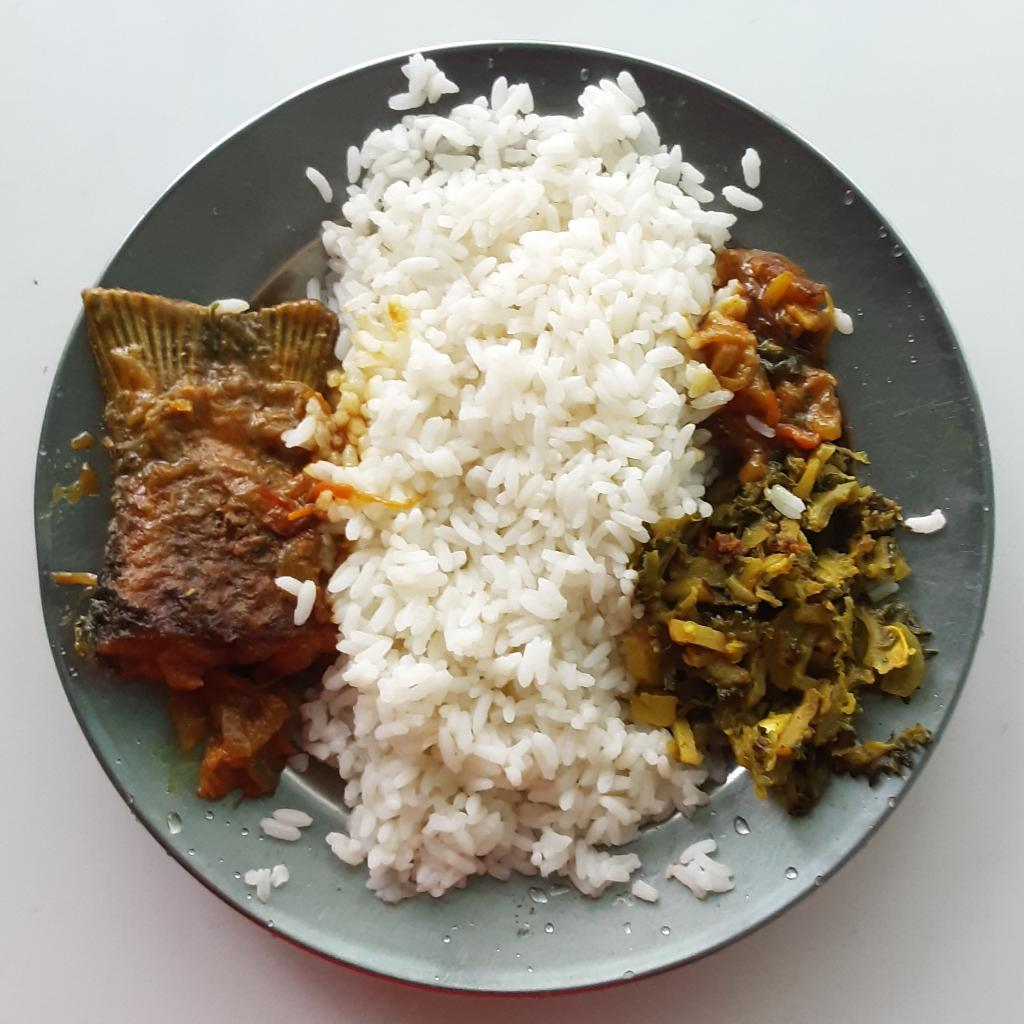fish: (67, 282, 335, 799)
korola-vaji: (618, 437, 941, 819)
rice: (277, 44, 767, 904)
